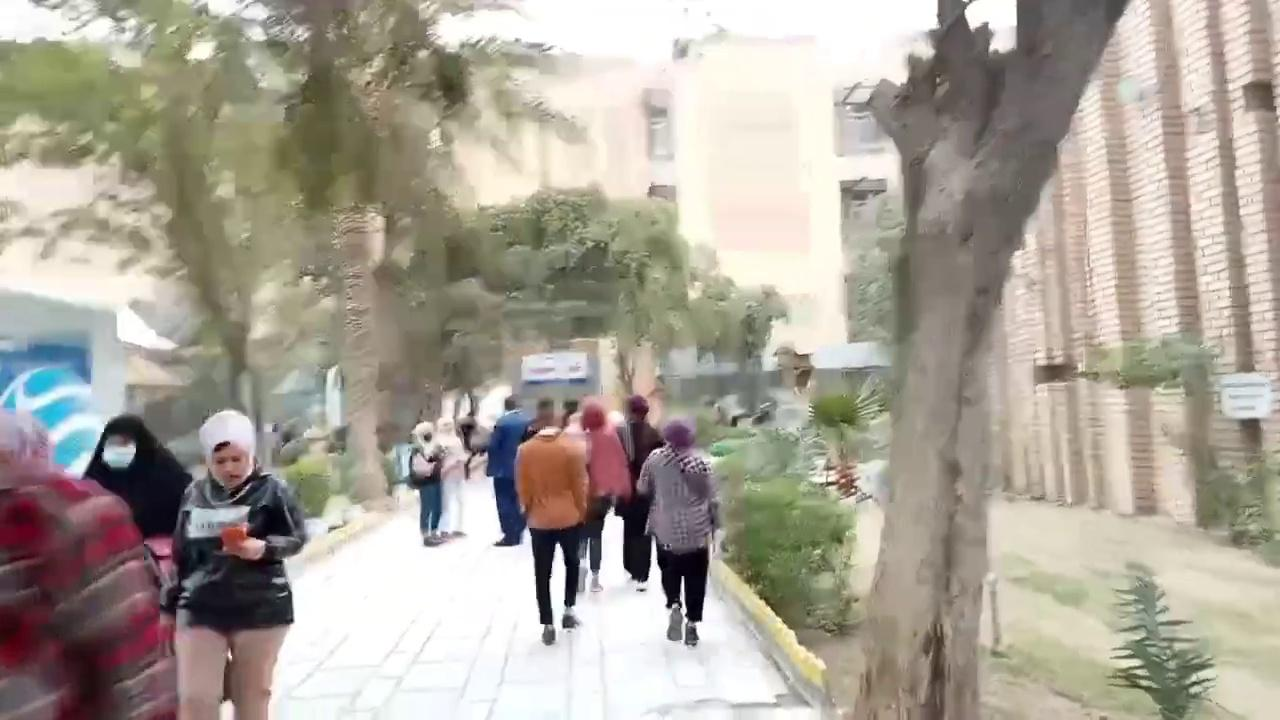person: (0, 406, 165, 719), (168, 409, 307, 719), (81, 413, 192, 657), (635, 419, 721, 647), (513, 407, 590, 645), (575, 401, 632, 593), (614, 394, 664, 591), (485, 394, 532, 546), (408, 421, 447, 546), (433, 416, 468, 536)
tree: (1, 0, 586, 512), (839, 0, 1133, 717), (1, 0, 319, 421), (255, 0, 467, 511), (445, 182, 781, 425), (1072, 328, 1221, 523), (1104, 566, 1224, 718), (805, 373, 888, 500)
